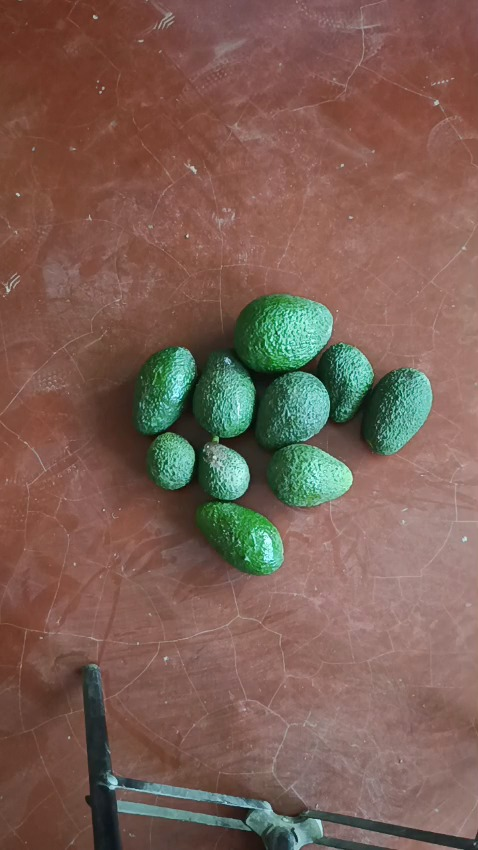Primera: (232, 293, 332, 372)
Segunda: (362, 366, 434, 455), (194, 501, 282, 573), (254, 371, 330, 450), (132, 345, 197, 435), (193, 351, 257, 439), (266, 443, 352, 507)
Tercera: (316, 342, 374, 423), (196, 438, 251, 500), (145, 431, 195, 490)
